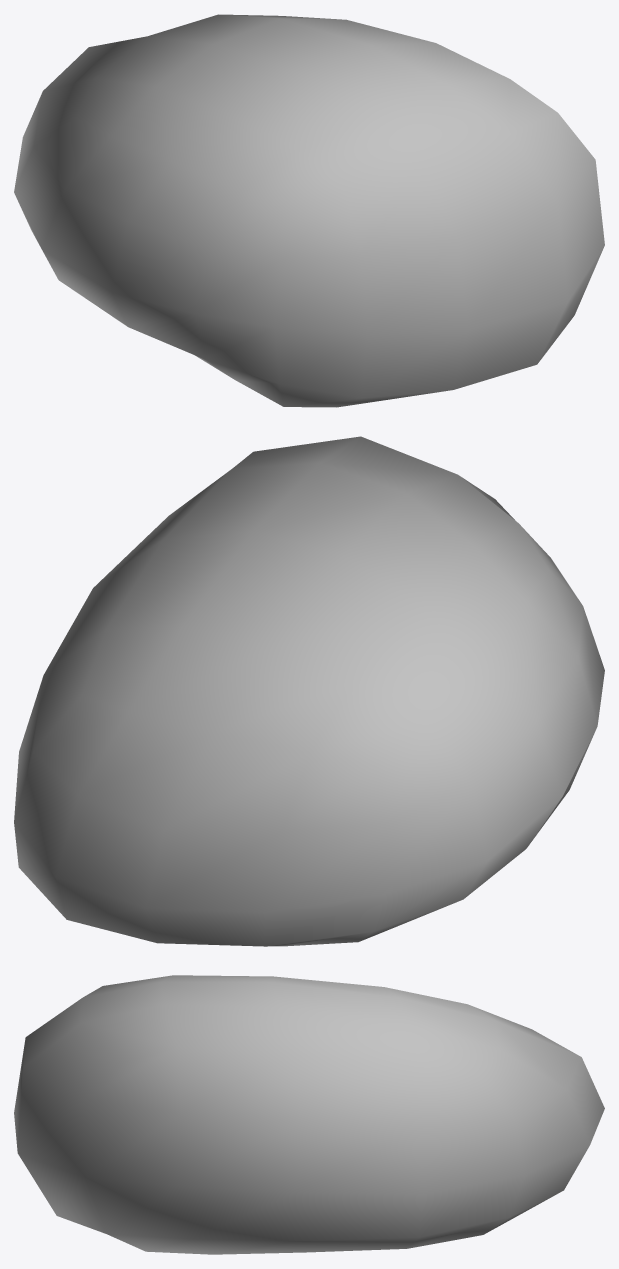
The model's file is Pebble_4b.gltf.
3 renders of one model, top to bottom at view 1: azimuth 30°, elevation 25°; view 2: azimuth 150°, elevation 25°; view 3: azimuth 270°, elevation 25°, orthographic. The views are drawn at different scales.
Visible parts, largest first — view 1: Pebble_4b; view 2: Pebble_4b; view 3: Pebble_4b.
Part boxes in pixels (x1,y1,x2,y2): Pebble_4b: (14,14,604,407); Pebble_4b: (14,436,604,946); Pebble_4b: (14,975,604,1254).
Size of the model in its own units: 43.18 by 28.15 by 62.82.
1 material, 1 textured.
